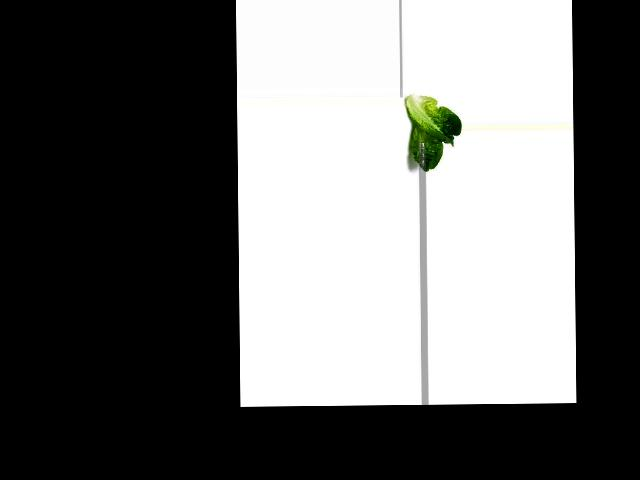lettuce: (408, 92, 462, 173)
